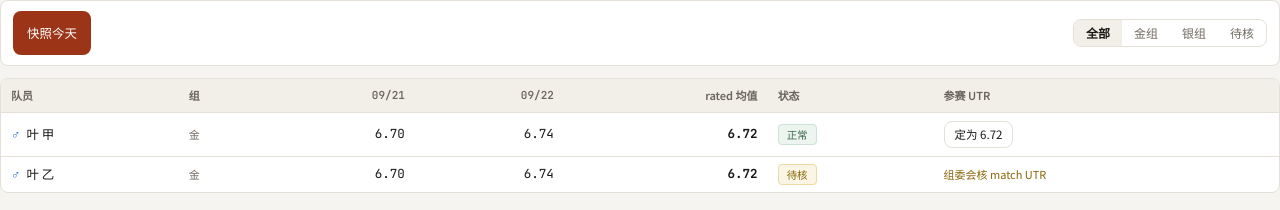
Scenario: SamplingMonitor filter + actions › filters to only 待核 rows
Step 1. Click the button "待核" → (1242, 33), box [1218,20,1266,46]
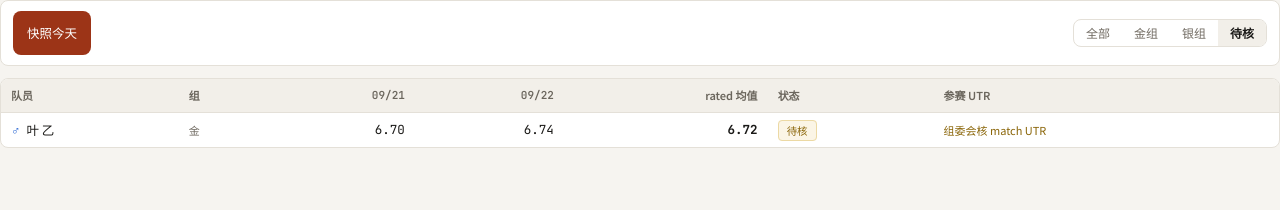
Check: the row "♂ 叶 乙 金 6.70 6.74 6.72 待核 组委会核 match UTR" is shown, box [1,112,1279,147]
Check: the row "叶 甲" is gone
